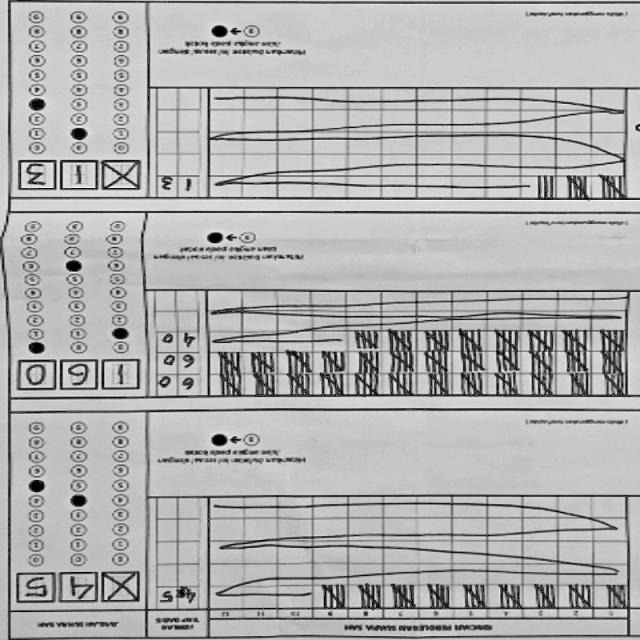Suara: (12, 154, 146, 192), (12, 355, 146, 393), (8, 566, 142, 604)
